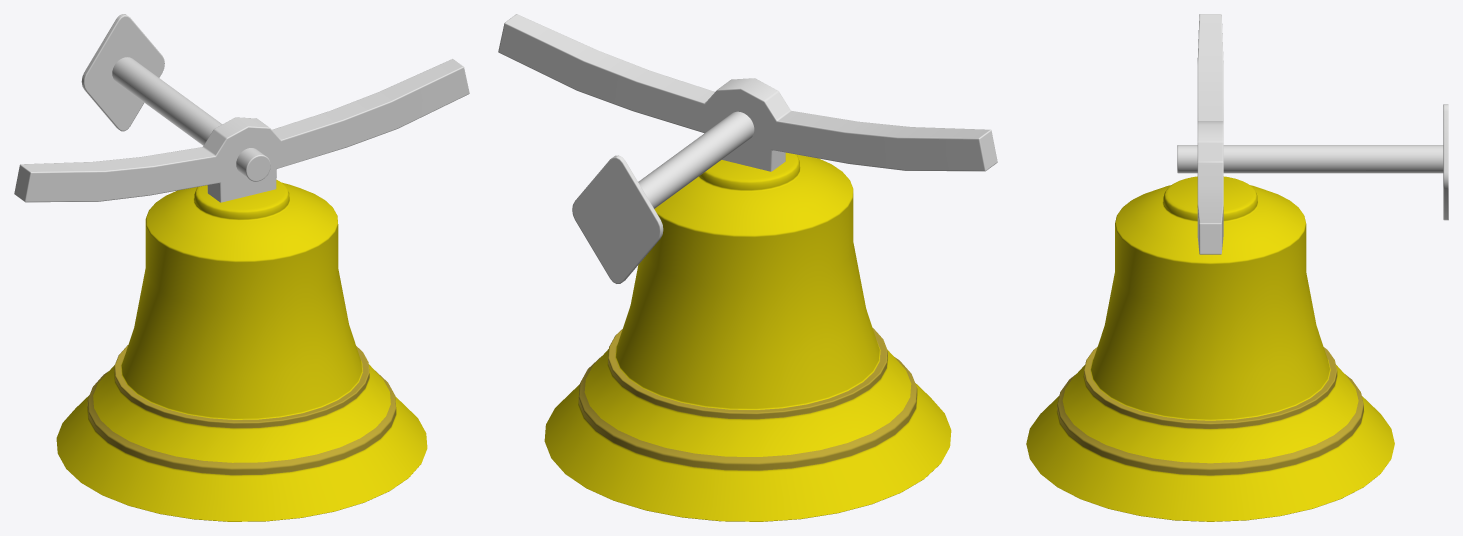
File: Cloche.fbx
The picture shows the model from 3 angles, left to right: view 1: azimuth 30°, elevation 25°; view 2: azimuth 150°, elevation 25°; view 3: azimuth 270°, elevation 25°; orthographic projection. The views are drawn at different scales.
Visible parts, largest first — view 1: Cylinder, Cube.087, Plane, Cylinder.001; view 2: Cylinder, Cube.087, Plane, Cylinder.001; view 3: Cylinder, Cylinder.001, Cube.087, Plane.
Boxes of the visible parts, x1=… form: Cylinder: x1=56, y1=179, x2=427, y2=521; Cube.087: x1=14, y1=59, x2=469, y2=202; Plane: x1=81, y1=14, x2=164, y2=131; Cylinder.001: x1=112, y1=57, x2=270, y2=181; Cylinder: x1=544, y1=152, x2=951, y2=521; Cube.087: x1=498, y1=14, x2=997, y2=171; Plane: x1=572, y1=155, x2=663, y2=283; Cylinder.001: x1=638, y1=111, x2=754, y2=208; Cylinder: x1=1026, y1=176, x2=1394, y2=521; Cylinder.001: x1=1177, y1=145, x2=1443, y2=173; Cube.087: x1=1197, y1=14, x2=1223, y2=254; Plane: x1=1443, y1=104, x2=1448, y2=220.
Bounding box in the file's own units: 28.4 × 20.86 × 23.55.
